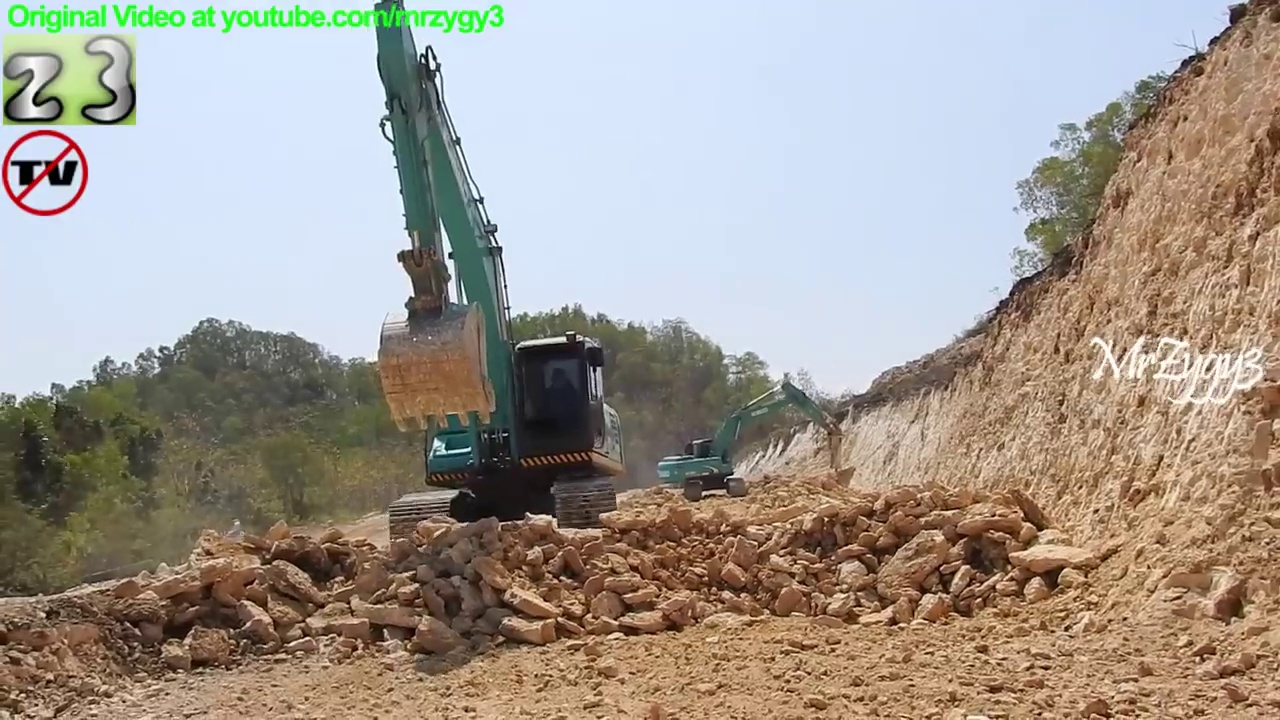excavator: (363, 1, 629, 561)
excavator breaker: (654, 372, 851, 506)
